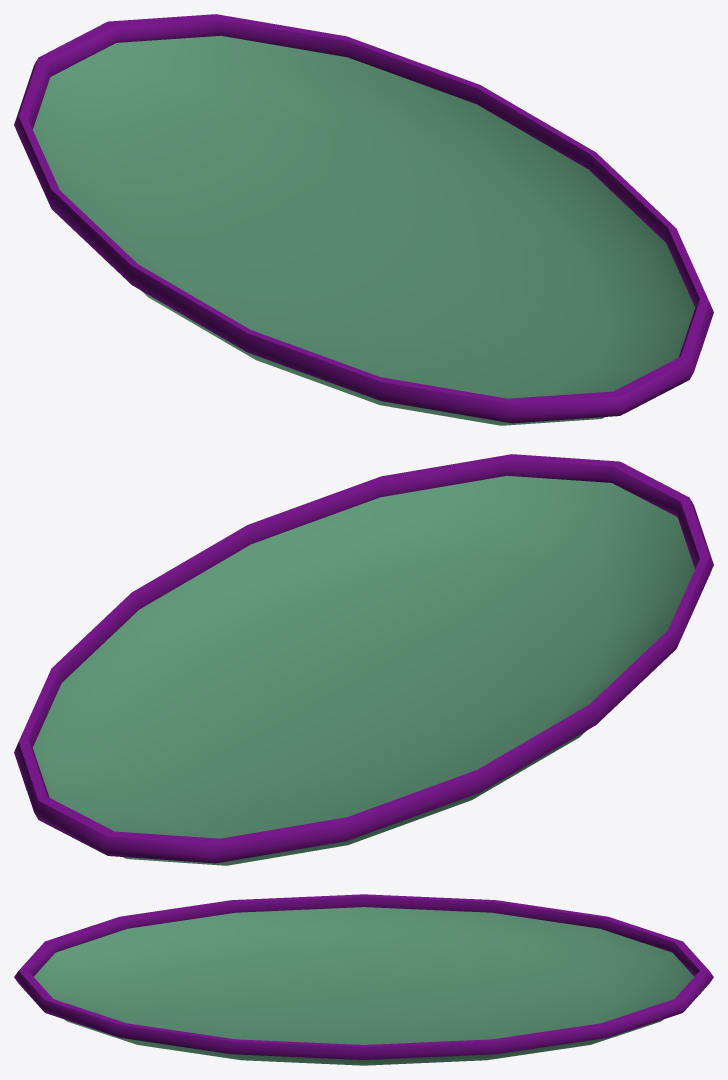
The model's file is Plate 03.fbx.
3 views of the same model, one above another, from view 1: azimuth 30°, elevation 25°; view 2: azimuth 150°, elevation 25°; view 3: azimuth 270°, elevation 25° (orthographic). The views are drawn at different scales.
Visible parts, largest first — view 1: Plate 03; view 2: Plate 03; view 3: Plate 03.
Boxes of the visible parts, x1,y1,x2,y2 form: Plate 03: (14, 14, 713, 425); Plate 03: (14, 454, 713, 865); Plate 03: (14, 894, 713, 1065).
Size of the model in its own units: 58.82 by 8.82 by 112.
